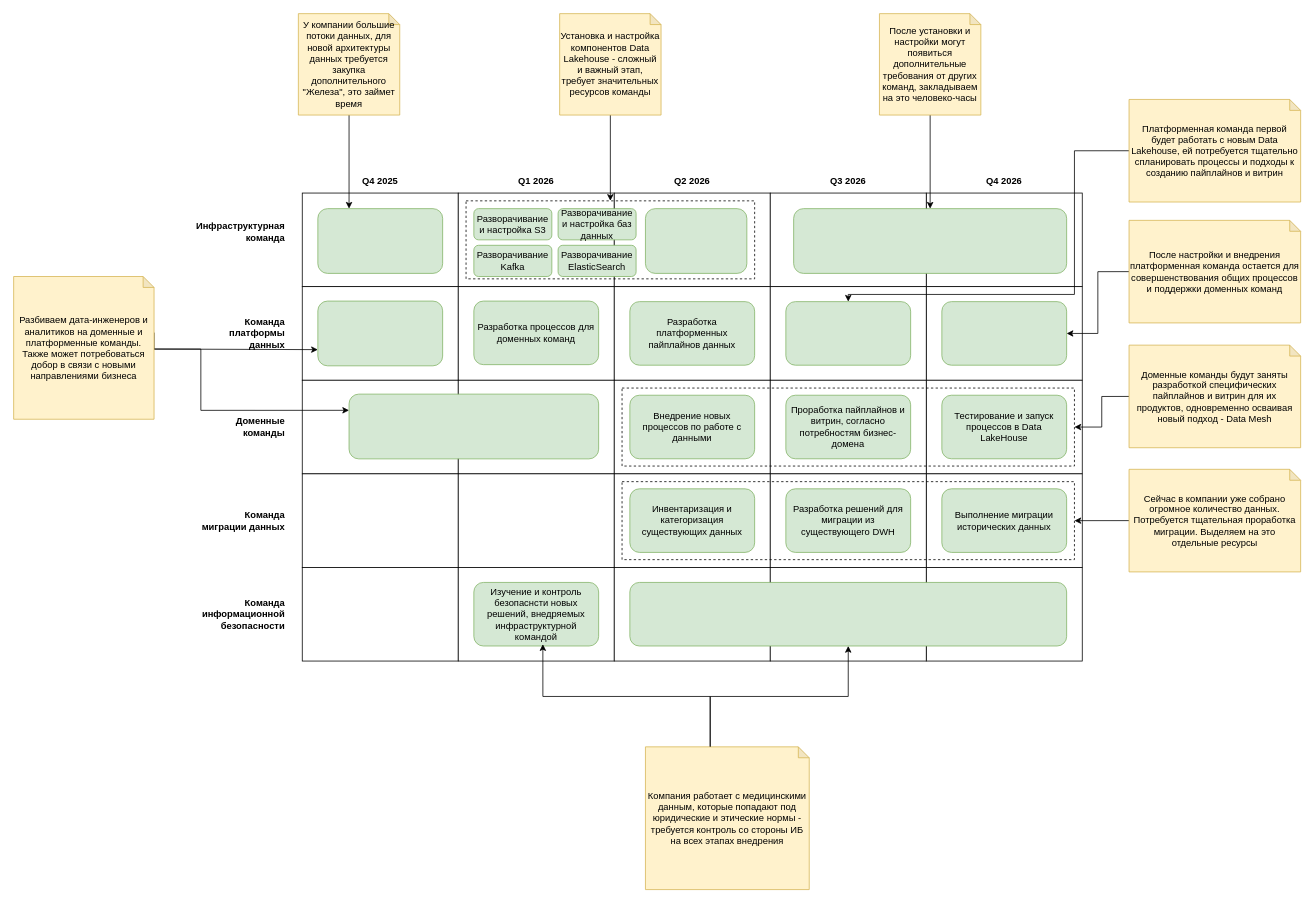
This 1314x903 diagram has some shape labels left out. Here are the shapes that lost their labels. From the top down, the box of each, then its label:
(317, 208, 443, 273): Закупка и настройка оборудования для будущей инфраструктуры
(645, 208, 747, 273): Установка и настройка Data LakeHouse
(793, 208, 1067, 273): Поддержка и донастройка решений по требованиям других команд
(317, 300, 443, 366): Формирование команды платформы из существующего штата + набор
(785, 301, 911, 365): Подключение разработанных процессов к Data Lakehouse
(941, 301, 1067, 365): Поддержка доменных команд
(348, 393, 599, 459): Формирование доменных команд из существующего штата + набор
(629, 582, 1067, 646): Контроль безопасности потока данных
